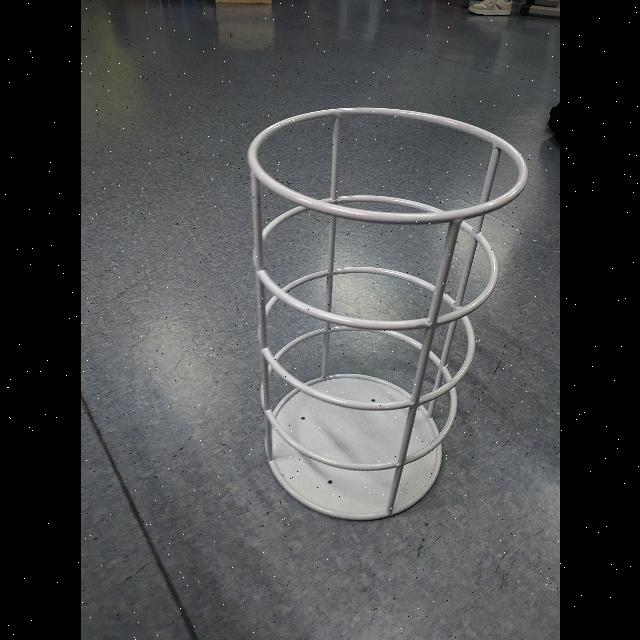S: (242, 100, 530, 526)
